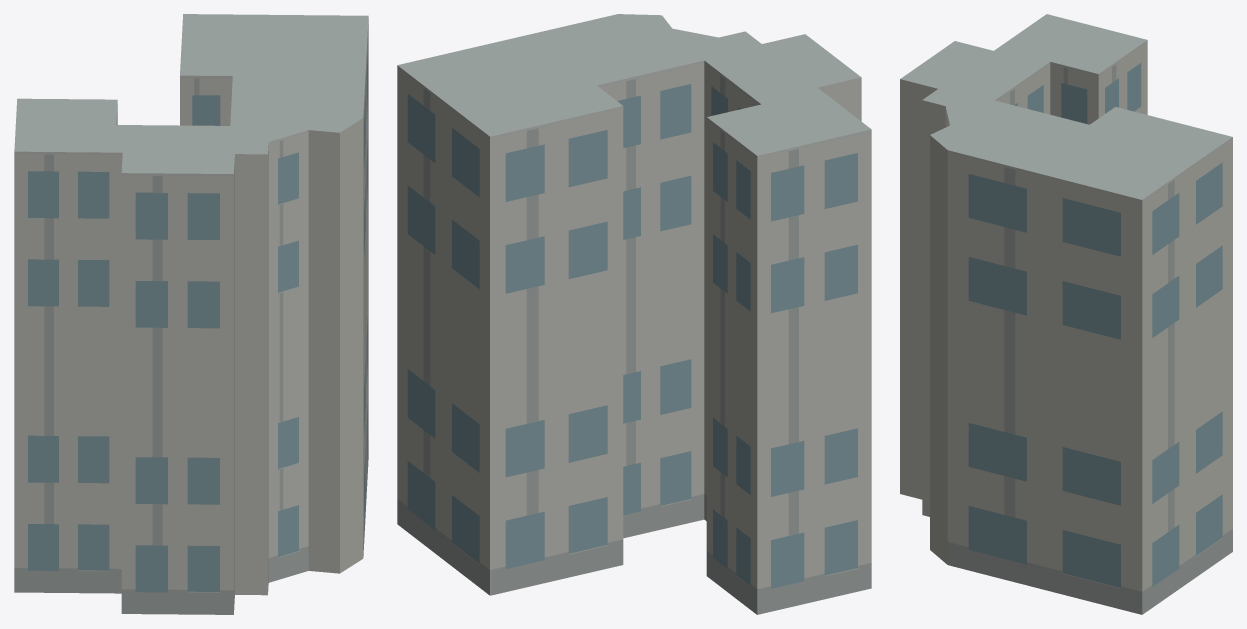
File: residential-d6e035a1-01ab-472b-8d47-59ae3a469f09.glb
The picture shows the model from 3 angles, left to right: view 1: azimuth 30°, elevation 25°; view 2: azimuth 150°, elevation 25°; view 3: azimuth 270°, elevation 25°; orthographic projection. The views are drawn at different scales.
Visible parts, largest first — view 1: residential-d6e035a1-01ab-472b-8d47-59ae3a469f09.tmp; view 2: residential-d6e035a1-01ab-472b-8d47-59ae3a469f09.tmp; view 3: residential-d6e035a1-01ab-472b-8d47-59ae3a469f09.tmp.
Part boxes in pixels (x1,y1,x2,y2): residential-d6e035a1-01ab-472b-8d47-59ae3a469f09.tmp: (14, 14, 368, 614); residential-d6e035a1-01ab-472b-8d47-59ae3a469f09.tmp: (397, 14, 871, 614); residential-d6e035a1-01ab-472b-8d47-59ae3a469f09.tmp: (900, 14, 1232, 614).
Size of the model in its own units: 41.35 by 43 by 31.26.
